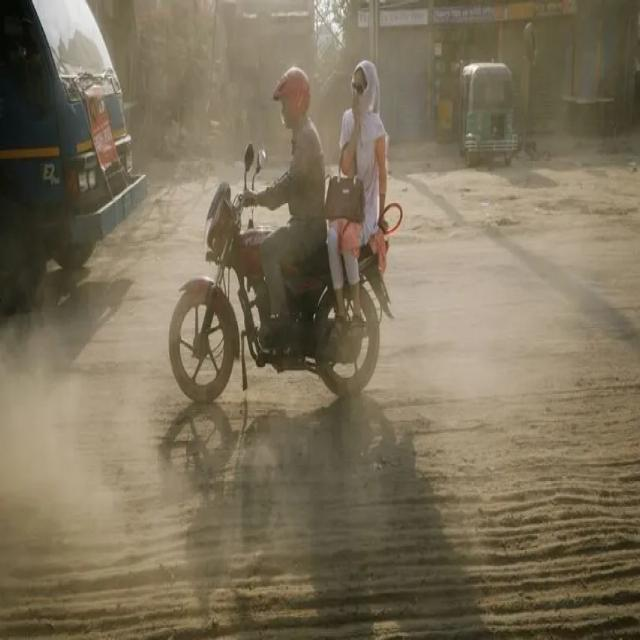bike: (155, 171, 408, 412)
